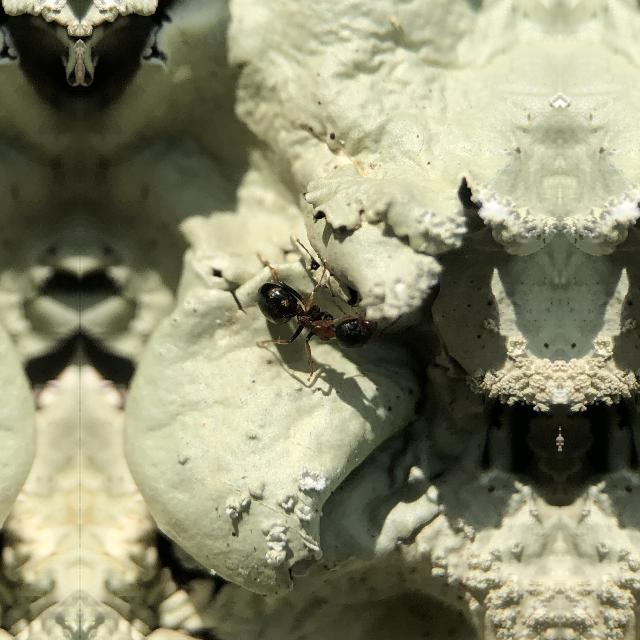Dolichoderus: (244, 250, 380, 362)
